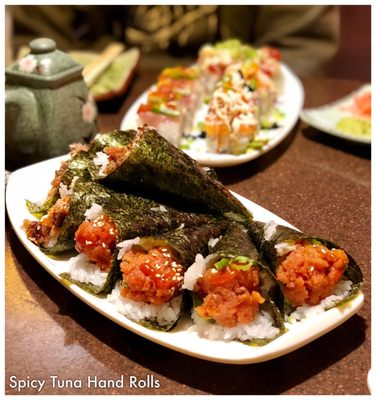soup: (81, 41, 141, 113)
sushi: (130, 39, 303, 169)
